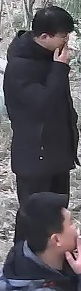smoking: (29, 28, 73, 105)
